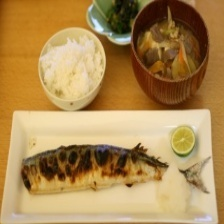rice: (38, 31, 105, 100)
